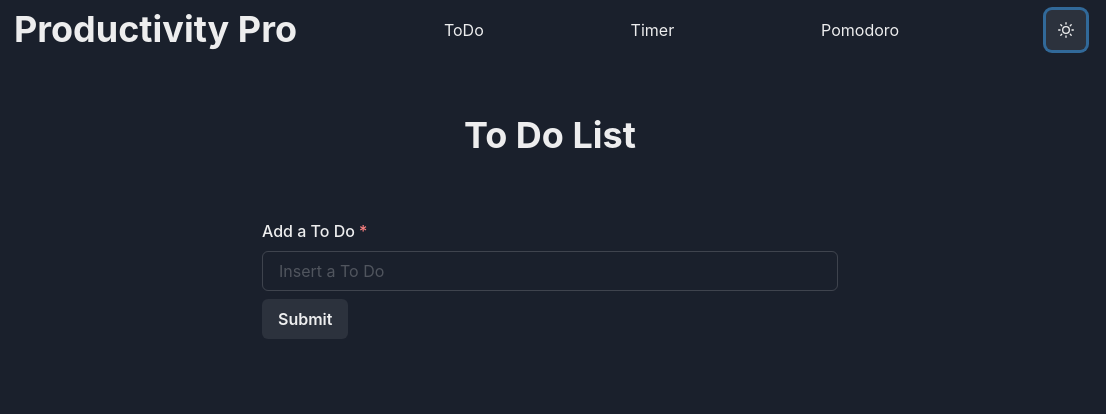
it: The Home Page › Inputing a new to do
The image size is (1106, 414).
Type "Hello World" into the field labelled "Add a To Do*".
click(550, 271); type("Hello World")  # box [262, 251, 838, 291]
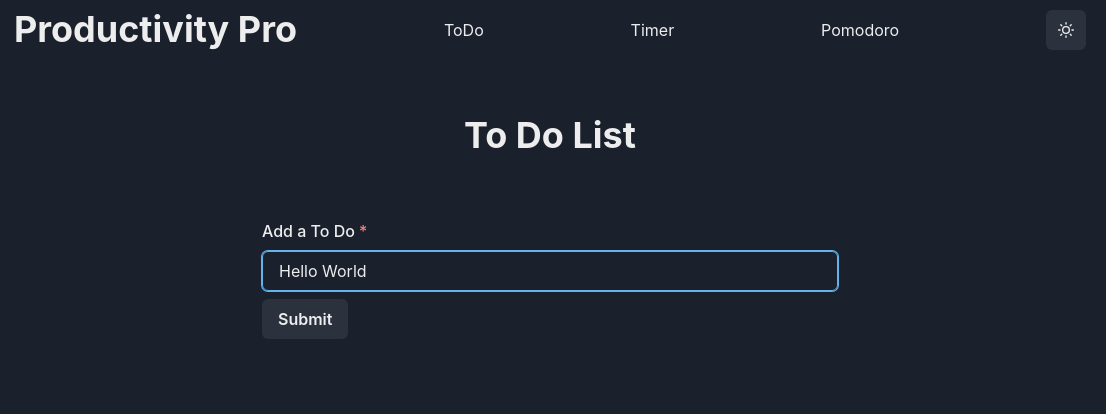
Click the button with class "submit".
click(305, 319)  # box [262, 299, 348, 339]
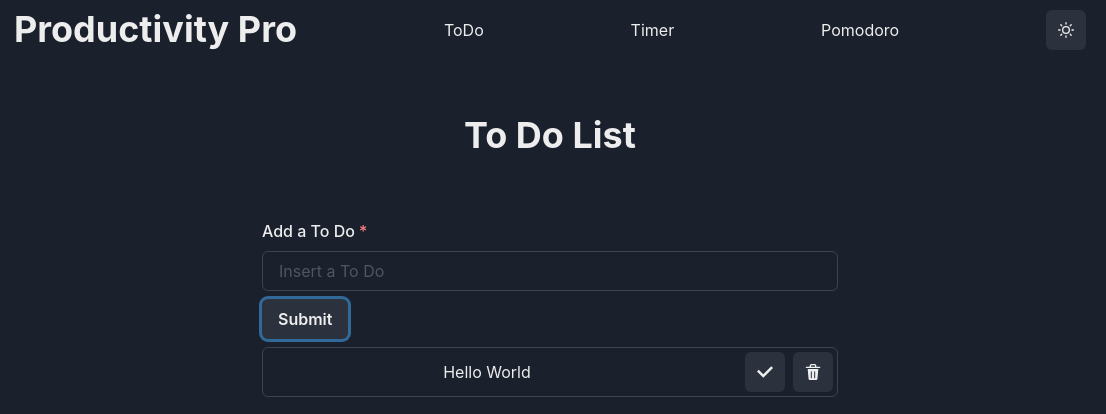
Check: the element with class "toDoCard" reads "Hello World", box [262, 347, 838, 397]
Click the button with class "completeButton".
click(765, 372)  # box [745, 352, 785, 392]
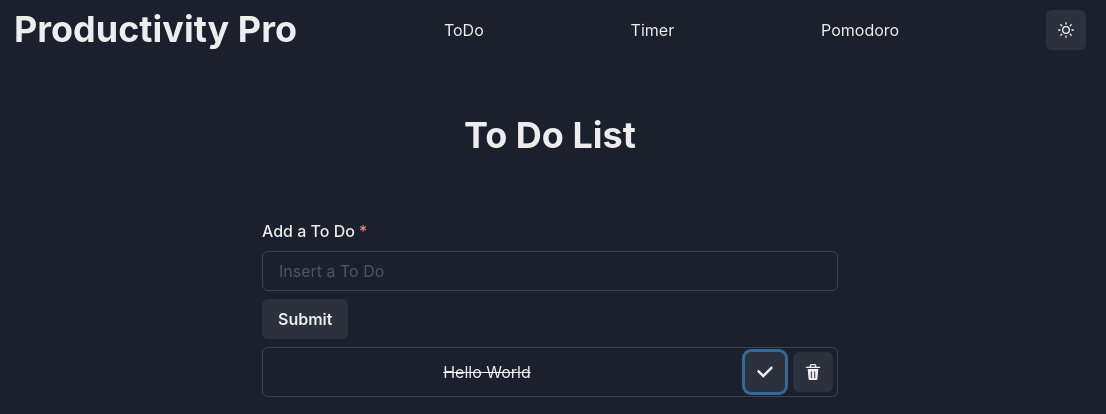
Check: the text with class "toDoText" has style "text-decoration-line"="line-through", box [443, 362, 531, 382]
Click the button with class "deleteButton".
click(813, 372)  # box [793, 352, 833, 392]
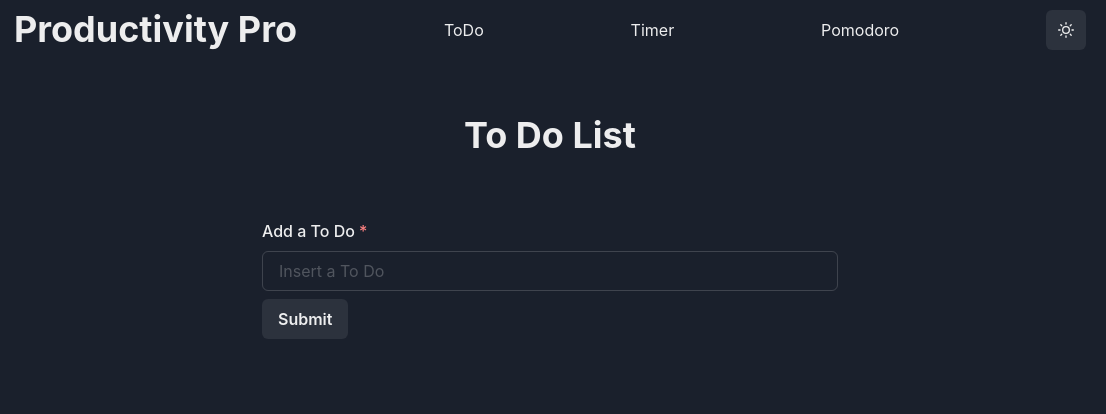
Check: the element with class "toDoCard" is gone
